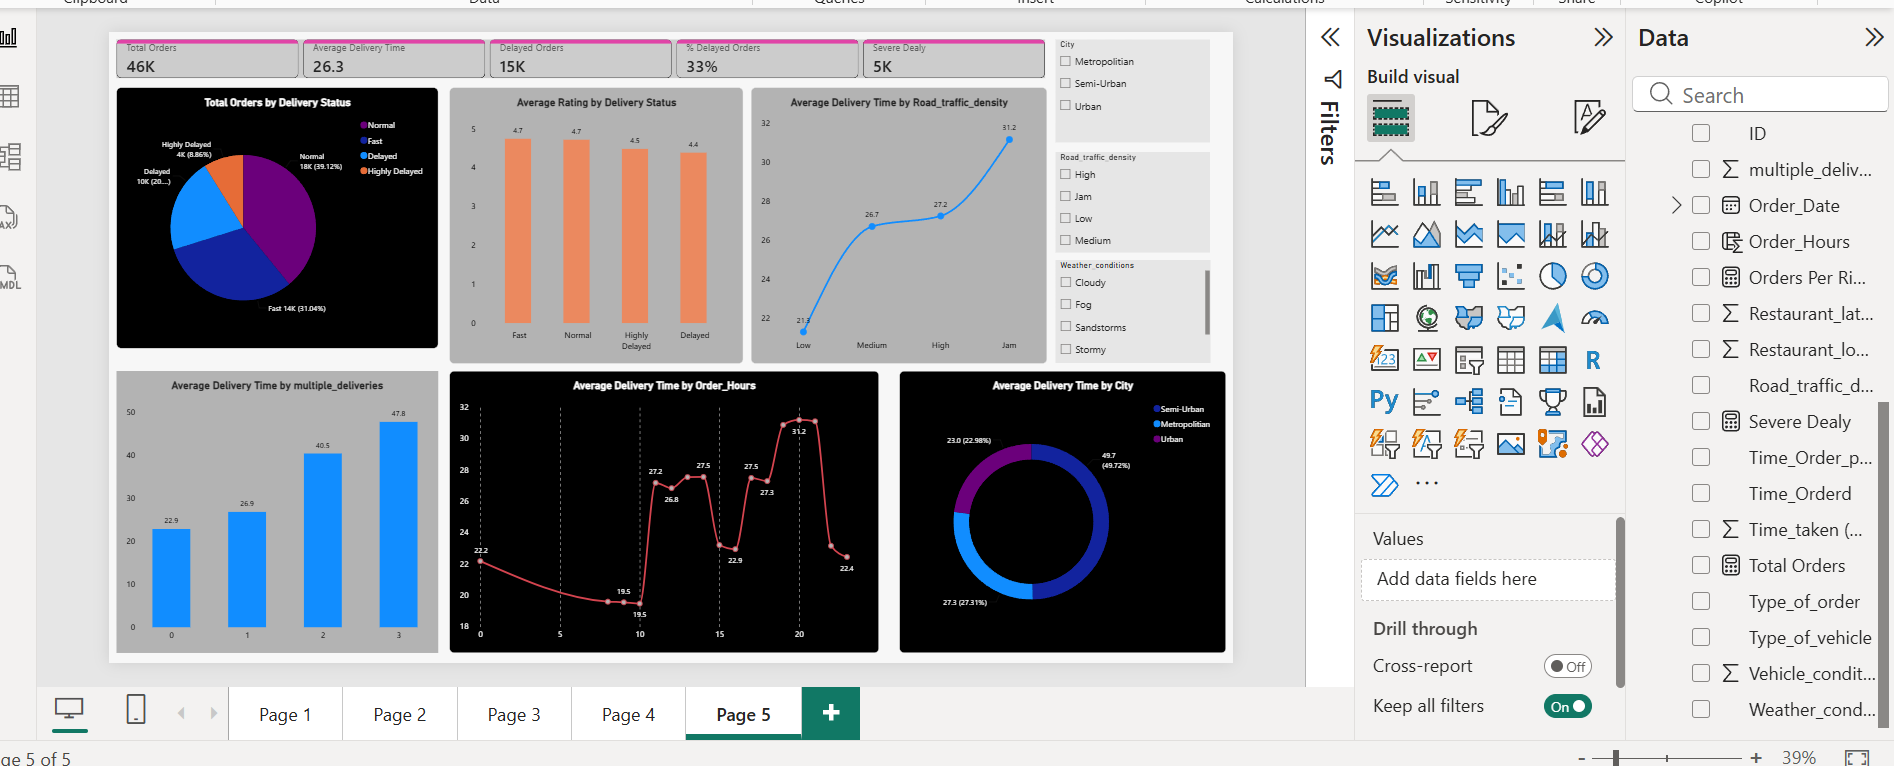

The page's visual inventory and layout, read from the dashboard file:
{"tool":"powerbi","page":{"name":"Page 5","canvas":[1920,1080],"ordinal":4},"visuals":[{"type":"cardVisual","fields":{"Data":["Zomato Deliveries.Total Orders","Zomato Deliveries.Average Delivery Time","Zomato Deliveries.Delayed Orders","Zomato Deliveries.% Delayed Orders","Zomato Deliveries.Severe Dealy"]},"box":[14,14,1590,66],"z":0},{"type":"pieChart","fields":{"Category":["Zomato Deliveries.Delivery Status"],"Y":["Zomato Deliveries.Total Orders"]},"box":[14,94,550,446],"z":1},{"type":"lineChart","fields":{"Category":["Zomato Deliveries.Road_traffic_density"],"Y":["Zomato Deliveries.Average Delivery Time"]},"box":[1098,94,506,472],"z":3},{"type":"clusteredColumnChart","fields":{"Category":["Zomato Deliveries.Delivery Status"],"Y":["Zomato Deliveries.Average Rating"]},"box":[582,94,502,472],"z":4},{"type":"clusteredColumnChart","fields":{"Category":["Zomato Deliveries.multiple_deliveries"],"Y":["Zomato Deliveries.Average Delivery Time"]},"box":[14,580,550,482],"z":5},{"type":"lineChart","fields":{"Category":["Zomato Deliveries.Order_Hours"],"Y":["Zomato Deliveries.Average Delivery Time"]},"box":[617.9,597.4,705.1,464.1],"z":6},{"type":"donutChart","fields":{"Category":["Zomato Deliveries.City"],"Y":["Zomato Deliveries.Average Delivery Time"]},"box":[1352,580,558,482],"z":7},{"type":"slicer","fields":{"Values":["Zomato Deliveries.City"]},"box":[1618,14,264,176],"z":8},{"type":"slicer","fields":{"Values":["Zomato Deliveries.Road_traffic_density"]},"box":[1618,204,264,172],"z":9},{"type":"slicer","fields":{"Values":["Zomato Deliveries.Weather_conditions"]},"box":[1618,390,264,176],"z":10}]}

Visuals, with their boxes on the page's 1920x1080 design canvas (x1, y1, x2, y2). These are canvas units, not pixel positions in the 1894x766 screenshot, which may show the page scaled, cropped or inside an application window:
cardVisual - Zomato Deliveries.Total Orders x Zomato Deliveries.Average Delivery Time: bbox=(14, 14, 1604, 80)
pieChart - Zomato Deliveries.Delivery Status x Zomato Deliveries.Total Orders: bbox=(14, 94, 564, 540)
lineChart - Zomato Deliveries.Road_traffic_density x Zomato Deliveries.Average Delivery Time: bbox=(1098, 94, 1604, 566)
clusteredColumnChart - Zomato Deliveries.Delivery Status x Zomato Deliveries.Average Rating: bbox=(582, 94, 1084, 566)
clusteredColumnChart - Zomato Deliveries.multiple_deliveries x Zomato Deliveries.Average Delivery Time: bbox=(14, 580, 564, 1062)
lineChart - Zomato Deliveries.Order_Hours x Zomato Deliveries.Average Delivery Time: bbox=(618, 597, 1323, 1062)
donutChart - Zomato Deliveries.City x Zomato Deliveries.Average Delivery Time: bbox=(1352, 580, 1910, 1062)
slicer - Zomato Deliveries.City: bbox=(1618, 14, 1882, 190)
slicer - Zomato Deliveries.Road_traffic_density: bbox=(1618, 204, 1882, 376)
slicer - Zomato Deliveries.Weather_conditions: bbox=(1618, 390, 1882, 566)
